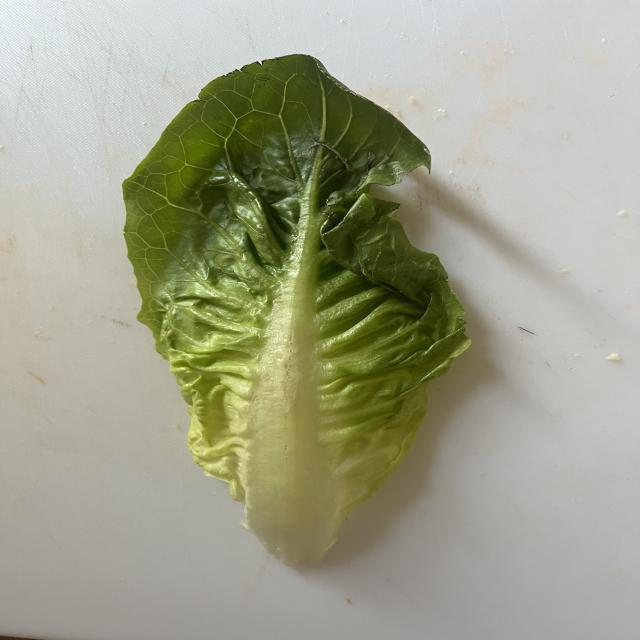lettuce: (124, 55, 469, 565)
